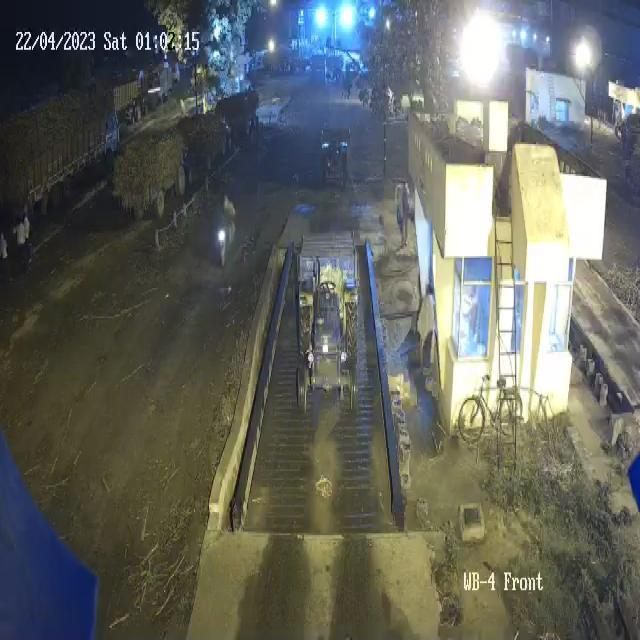Tratores - v5 YOLO V8L 2024-11-13: (294, 250, 360, 418)
